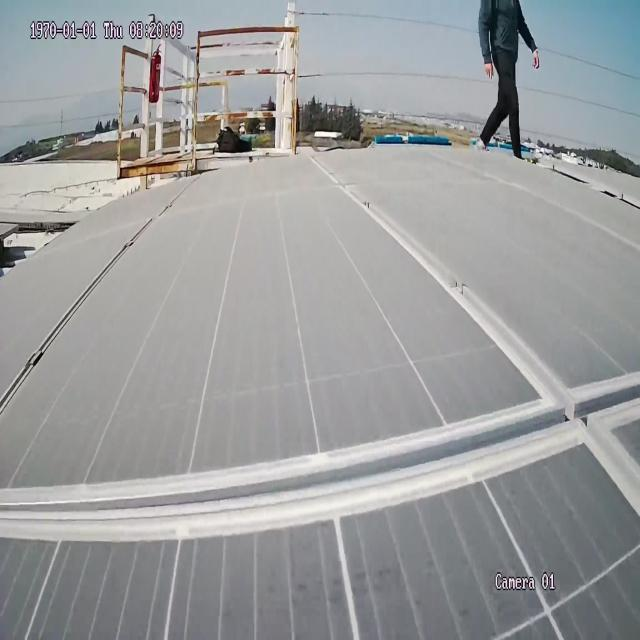interior panel: (0, 154, 640, 562)
outher panel: (0, 215, 85, 299)
